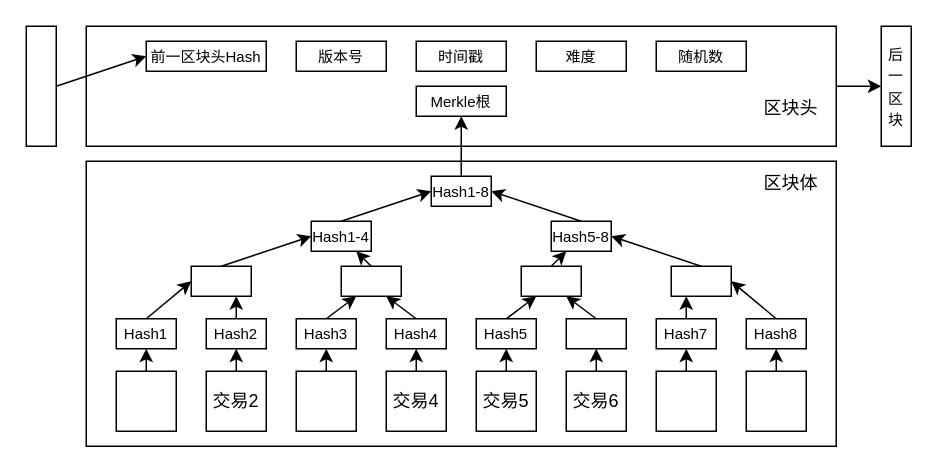
This 938x473 diagram has some shape labels left out. Each missing label, with the box of its shape:
Hash12: (190, 265, 251, 296)
Hash34: (340, 265, 401, 296)
Hash56: (520, 265, 581, 296)
Hash6: (565, 317, 626, 349)
Hash78: (670, 265, 731, 296)
交易1: (115, 370, 176, 431)
交易3: (295, 370, 356, 431)
交易7: (655, 370, 716, 431)
交易8: (745, 370, 806, 431)
前一区块: (25, 25, 56, 146)
